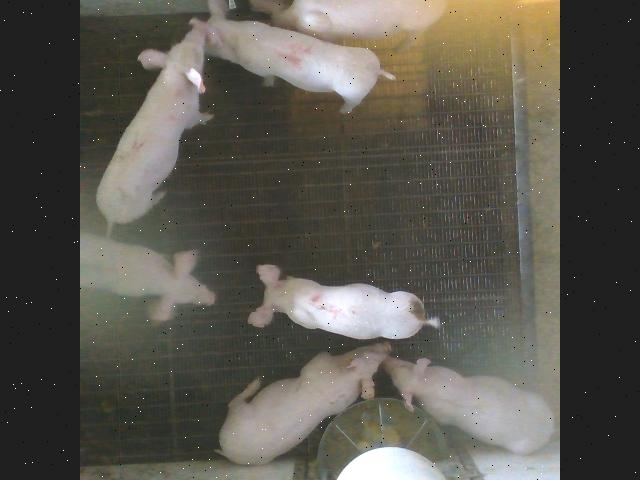pig-4: (190, 0, 394, 112)
pig-5: (248, 264, 439, 339)
